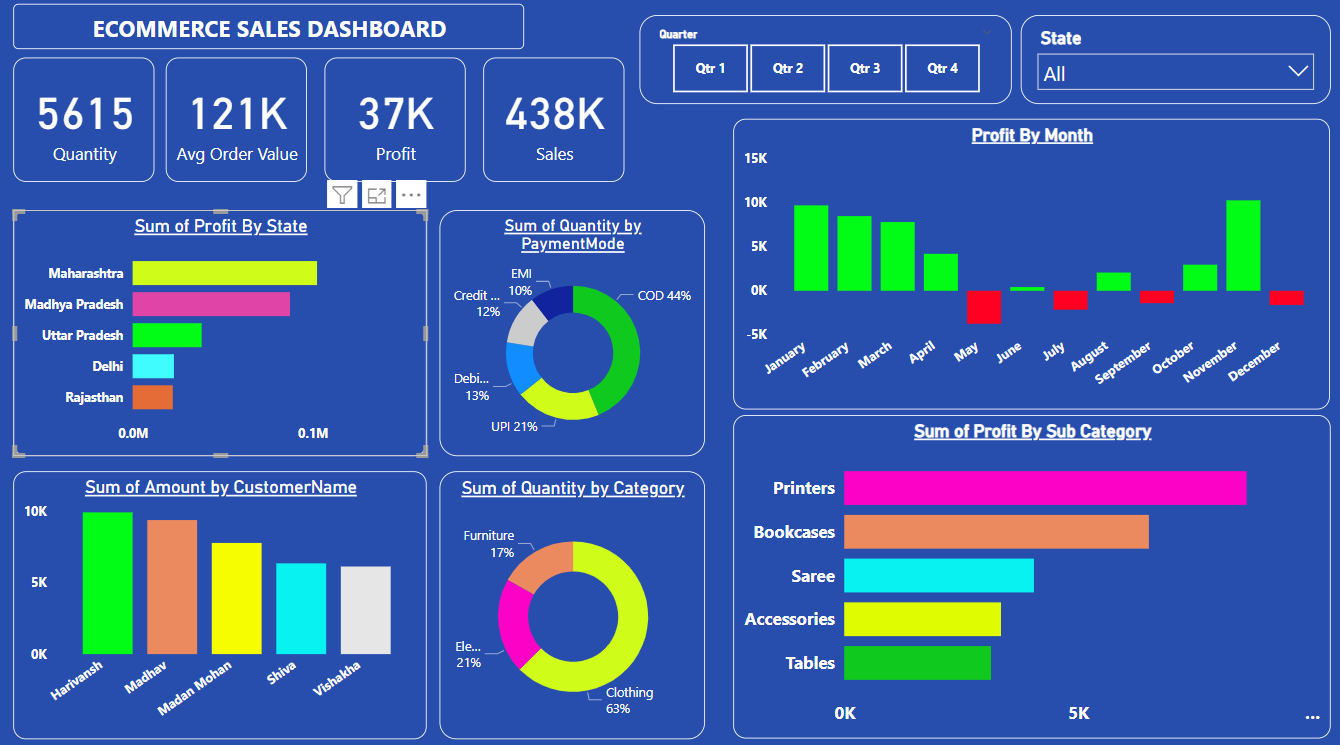

This screenshot's page, from the dashboard's own definition file:
{"tool":"powerbi","page":{"name":"Page 1","canvas":[1280,720],"ordinal":0},"visuals":[{"type":"textbox","box":[15.5,8.3,486.7,42.8],"z":0},{"type":"columnChart","title":"Profit By Month","fields":{"Category":["Orders.Order Date.Variation.Date Hierarchy.Month"],"Y":["Details.Profit"]},"box":[701.2,118,568.1,277.2],"z":1000},{"type":"barChart","title":"Sum of Profit By Sub Category","fields":{"Category":["Details.Sub-Category"],"Y":["Details.Profit"]},"box":[701,399.9,568.9,308.2],"z":2000},{"type":"donutChart","fields":{"Category":["Details.Category"],"Y":["Details.Quantity"]},"box":[421.3,452.8,252.5,255.2],"z":3000},{"type":"donutChart","fields":{"Y":["Details.Quantity"],"Category":["Details.PaymentMode"]},"box":[421.3,204.5,252.5,234.6],"z":4000},{"type":"card","fields":{"Values":["Details.Amount"]},"box":[462.4,59,134.5,118],"z":5000},{"type":"card","fields":{"Values":["Details.Quantity"]},"box":[15.1,59,134.5,118],"z":6000},{"type":"card","fields":{"Values":["Details.Profit"]},"box":[311.5,59,134.5,118],"z":7000},{"type":"card","fields":{"Values":["Details.Average Order Value"]},"box":[160.5,59,134.5,118],"z":8000},{"type":"barChart","title":"Sum of Profit By State","fields":{"Y":["Details.Amount"],"Category":["Orders.State"]},"box":[15.1,204.5,393.8,234.6],"z":9000},{"type":"columnChart","fields":{"Y":["Details.Amount"],"Category":["Orders.CustomerName"]},"box":[15.1,452.8,393.8,255.2],"z":10000},{"type":"slicer","fields":{"Values":["Orders.Order Date.Variation.Date Hierarchy.Quarter"]},"box":[612,19.2,354,85.1],"z":11000},{"type":"slicer","fields":{"Values":["Orders.State"]},"box":[974.3,19.2,295,85.1],"z":12000}]}

Visuals, with their boxes in screenshot pixels (x1, y1, x2, y2), scaled from the page's 1280x720 canvas onto the 1340x745 screenshot:
textbox: (left=16, top=9, right=526, bottom=53)
"Profit By Month" columnChart: (left=734, top=122, right=1329, bottom=409)
"Sum of Profit By Sub Category" barChart: (left=734, top=414, right=1329, bottom=733)
donutChart - Details.Category x Details.Quantity: (left=441, top=469, right=705, bottom=733)
donutChart - Details.Quantity x Details.PaymentMode: (left=441, top=212, right=705, bottom=454)
card - Details.Amount: (left=484, top=61, right=625, bottom=183)
card - Details.Quantity: (left=16, top=61, right=157, bottom=183)
card - Details.Profit: (left=326, top=61, right=467, bottom=183)
card - Details.Average Order Value: (left=168, top=61, right=309, bottom=183)
"Sum of Profit By State" barChart: (left=16, top=212, right=428, bottom=454)
columnChart - Details.Amount x Orders.CustomerName: (left=16, top=469, right=428, bottom=733)
slicer - Orders.Order Date.Variation.Date Hierarchy.Quarter: (left=641, top=20, right=1011, bottom=108)
slicer - Orders.State: (left=1020, top=20, right=1329, bottom=108)
